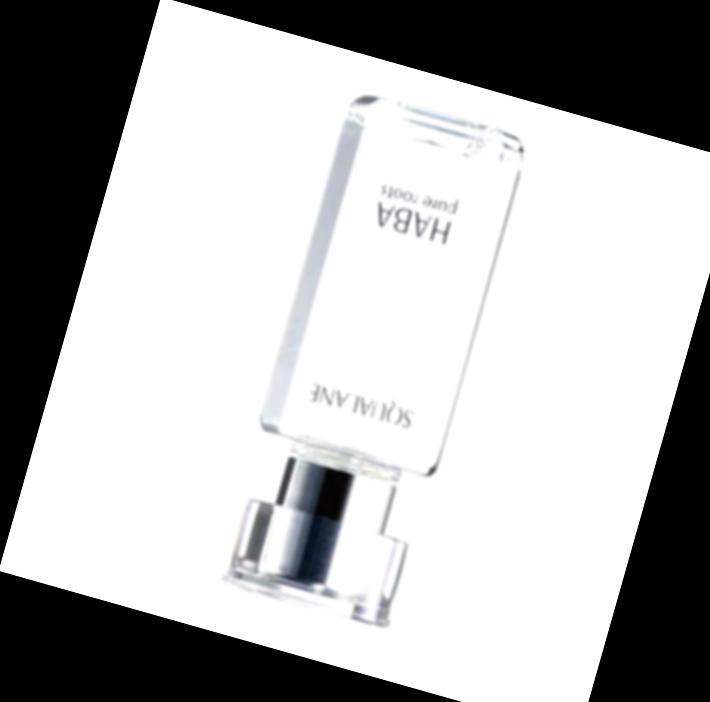cosmetic: (212, 89, 531, 632)
